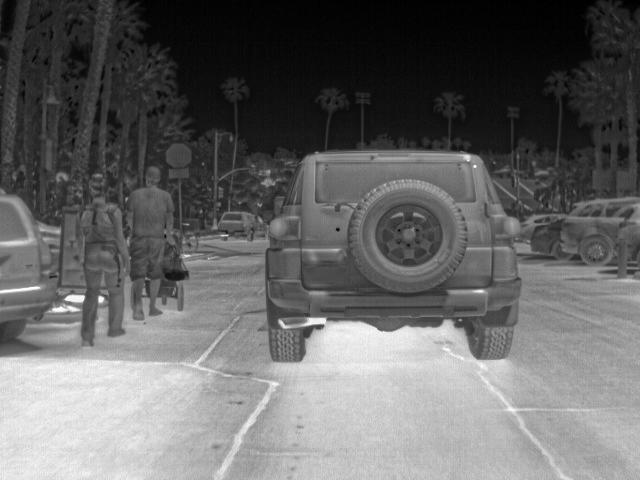car: (262, 146, 519, 358), (3, 192, 63, 340), (558, 196, 640, 271), (38, 214, 64, 278), (532, 216, 566, 260), (219, 209, 258, 241)
person: (80, 169, 130, 346), (124, 162, 175, 323)
